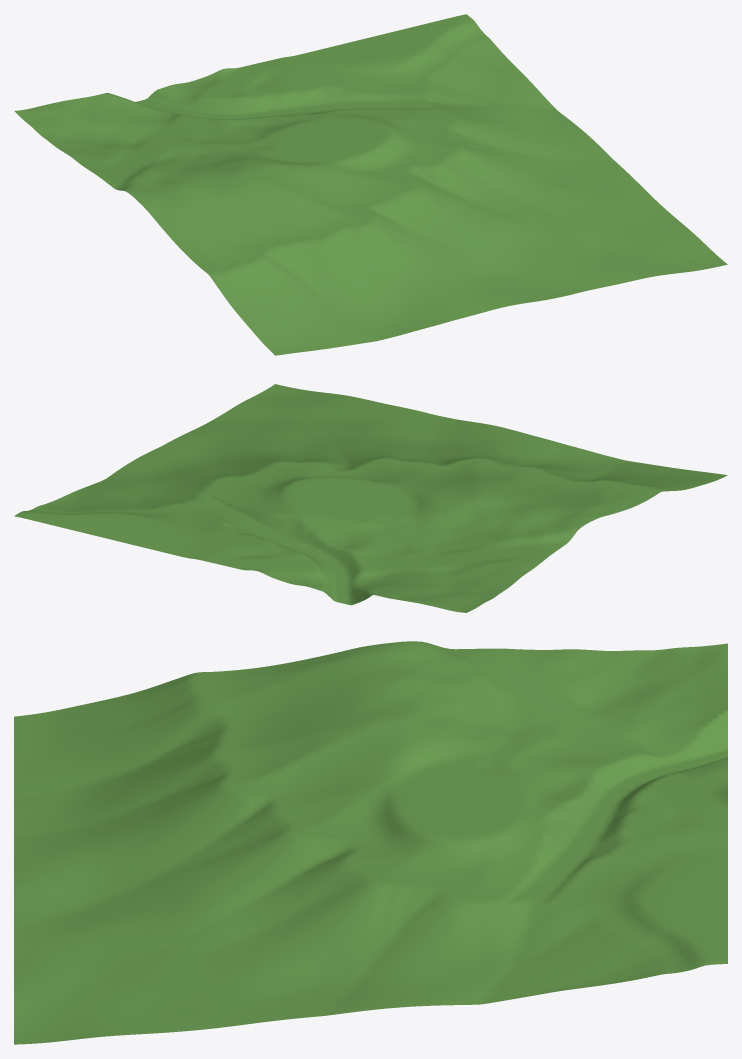
Rendered from SM_Terrain_05_06.fbx.
3 views of the same model, one above another, from view 1: azimuth 30°, elevation 25°; view 2: azimuth 150°, elevation 25°; view 3: azimuth 270°, elevation 25° (orthographic). The views are drawn at different scales.
Visible parts, largest first — view 1: SM_Terrain_05_06; view 2: SM_Terrain_05_06; view 3: SM_Terrain_05_06.
Boxes of the visible parts, x1,y1,x2,y2 form: SM_Terrain_05_06: [14, 14, 727, 355]; SM_Terrain_05_06: [14, 384, 727, 612]; SM_Terrain_05_06: [14, 641, 727, 1044].
Size of the model in its own units: 384 by 60.37 by 384.
